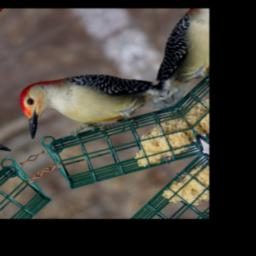Woodpecker: (1, 37, 173, 168)
